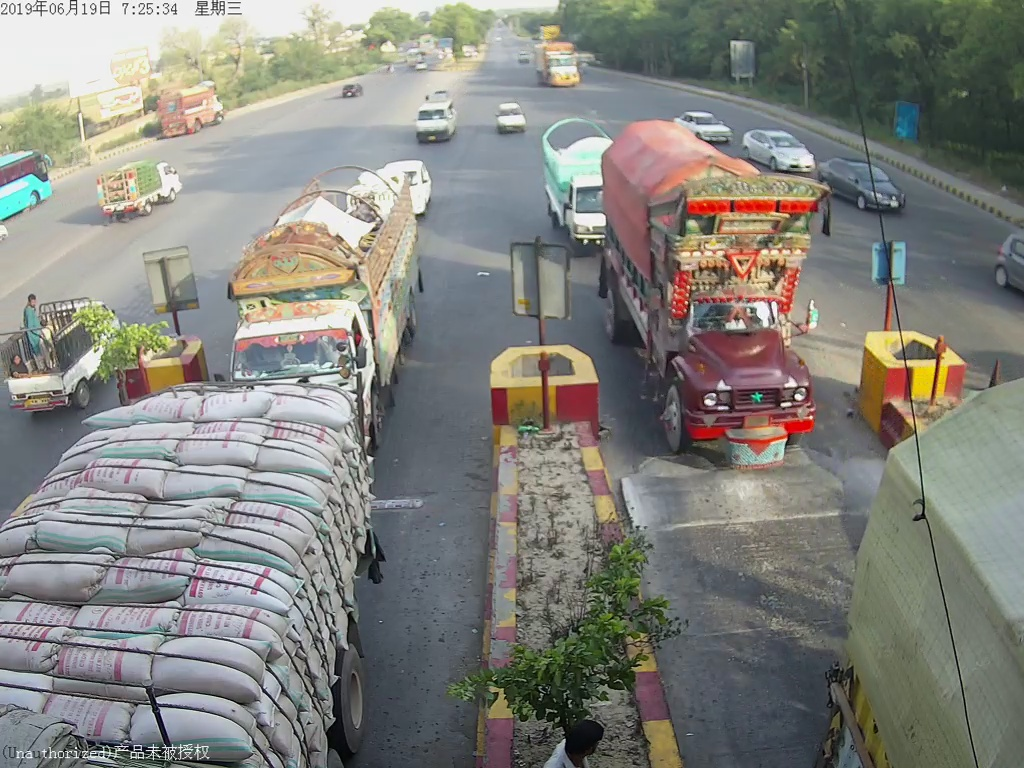Cat-4: (612, 138, 850, 455), (227, 188, 448, 379)
